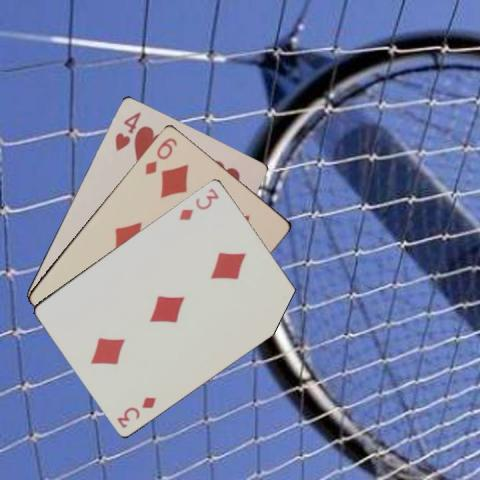3d: (176, 185, 221, 222), (114, 394, 157, 430)
4h: (111, 108, 143, 153)
6d: (142, 134, 179, 176)
